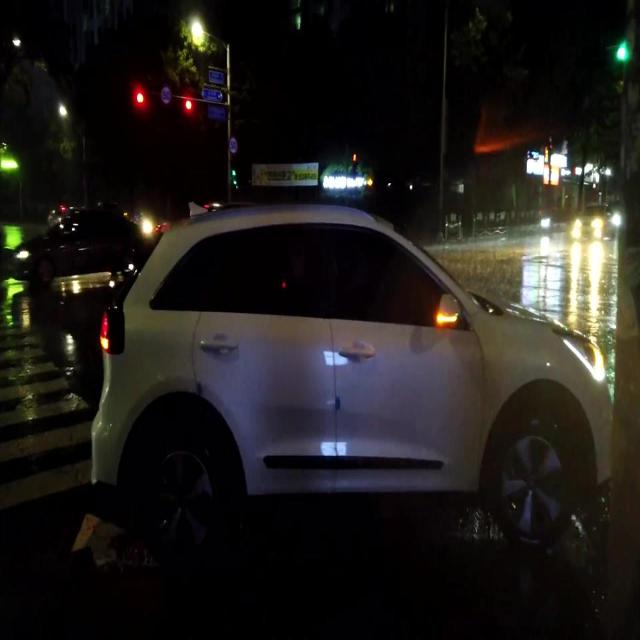Car: (10, 205, 138, 271), (571, 199, 615, 236)
